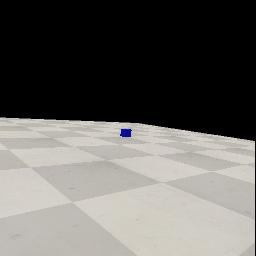box: (120, 129, 132, 137)
